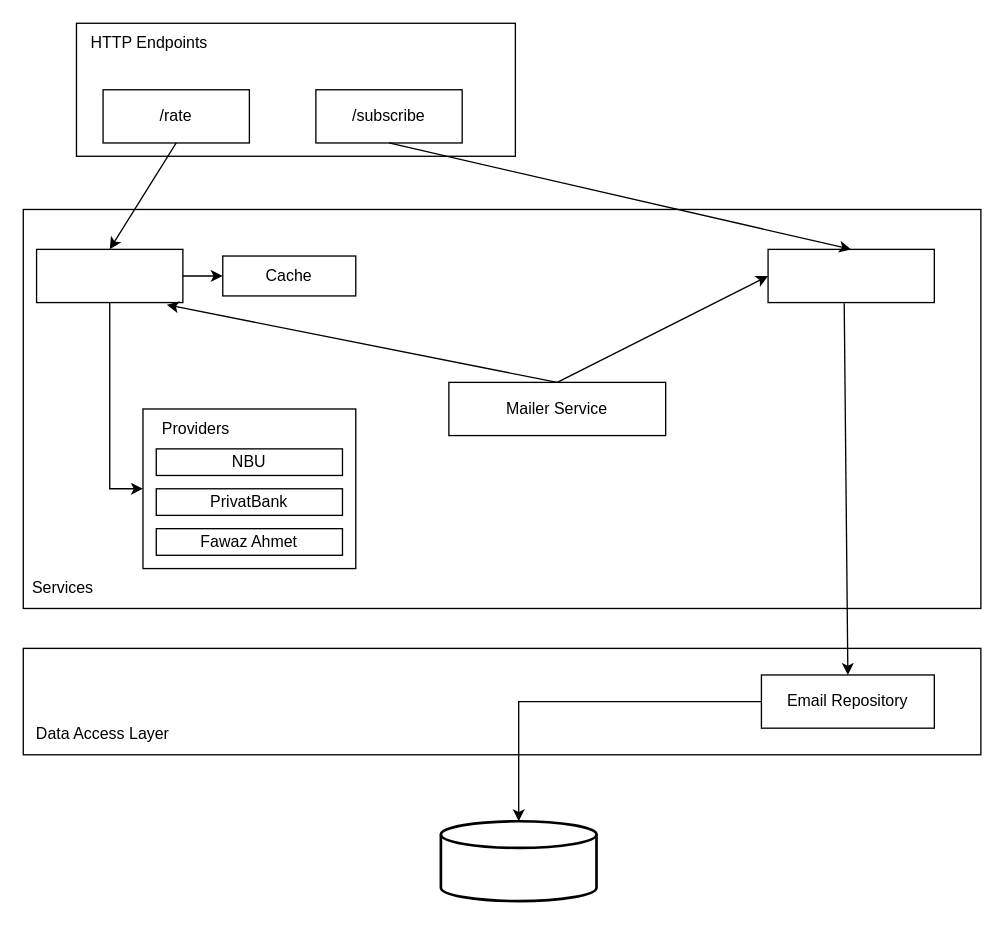
This 1004x926 diagram has some shape labels left out. Here are the shapes that lost their labels. From the top down, the centre of each, then its label:
At (x=109, y=275): "Rate Service".
At (x=850, y=275): "Email Service".
At (x=518, y=860): "PostgreSQL DB".
